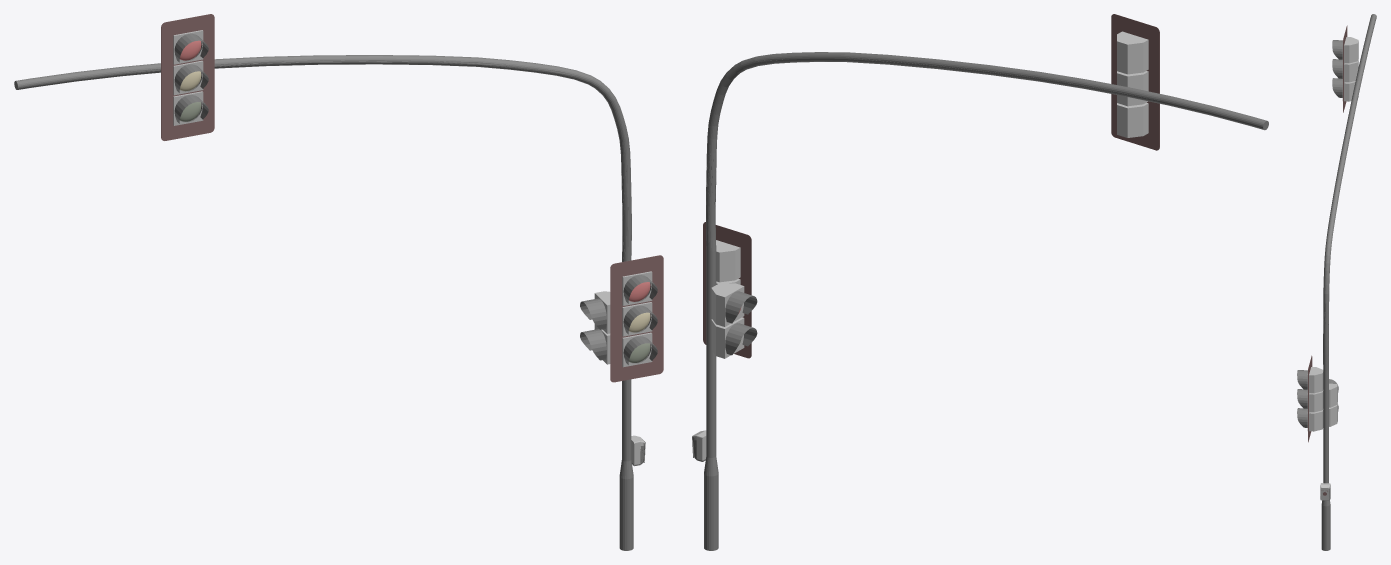
The model's file is traffic_light.glb.
3 views of the same model, side by side, from view 1: azimuth 30°, elevation 25°; view 2: azimuth 150°, elevation 25°; view 3: azimuth 270°, elevation 25° (orthographic). The views are drawn at different scales.
Parts seen in each view (by area): view 1: 3DSMeshMatrix (×4); view 2: 3DSMeshMatrix (×3); view 3: 3DSMeshMatrix (×3).
Boxes of the visible parts, x1,y1,x2,y2 form: 3DSMeshMatrix (×4): (14, 14, 663, 550); 3DSMeshMatrix (×3): (692, 14, 1268, 550); 3DSMeshMatrix (×3): (1297, 14, 1376, 550).
Size of the model in its own units: 4.57 by 4.56 by 0.849.
